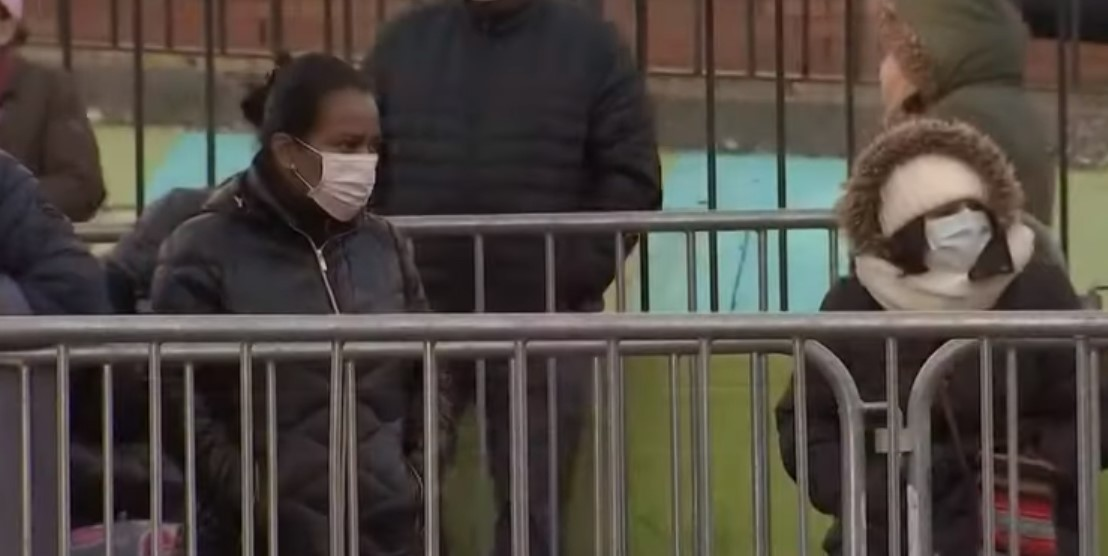face_with_mask: (869, 122, 1016, 292), (261, 47, 382, 225)
